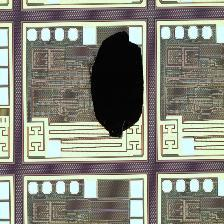PARTICLE: (89, 31, 147, 139)
